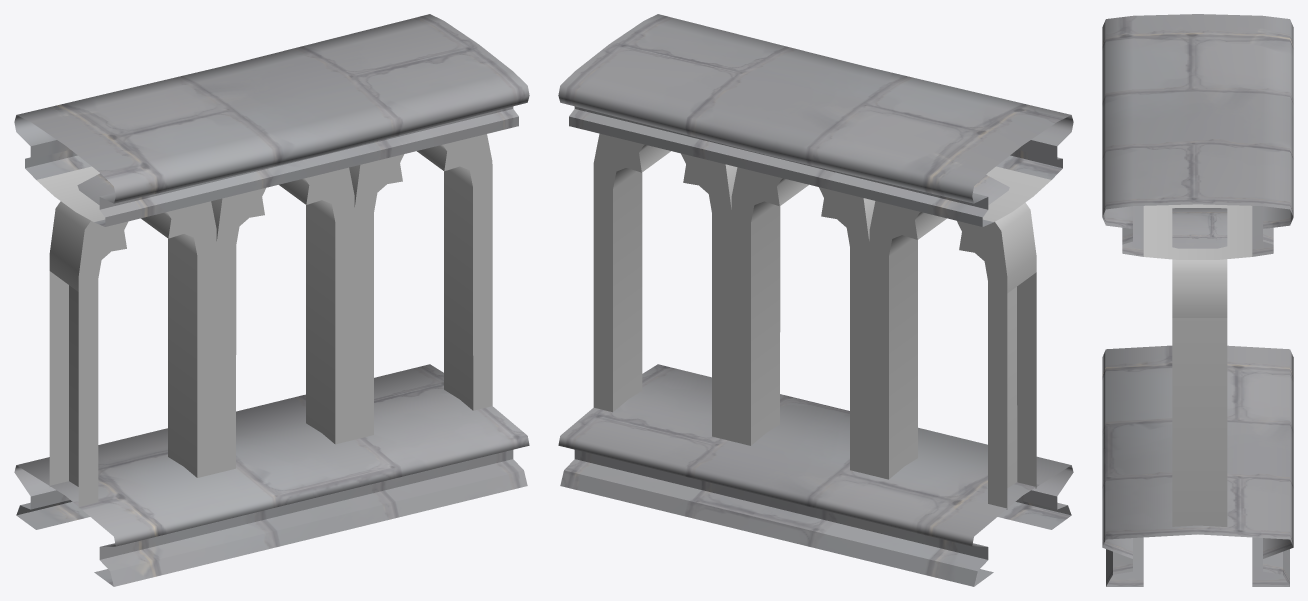
File: SM_Fence1m.fbx
3 views of the same model, side by side, from view 1: azimuth 30°, elevation 25°; view 2: azimuth 150°, elevation 25°; view 3: azimuth 270°, elevation 25° (orthographic). The views are drawn at different scales.
Visible parts, largest first — view 1: SM_Fence1m; view 2: SM_Fence1m; view 3: SM_Fence1m.
Boxes of the visible parts, x1,y1,x2,y2 form: SM_Fence1m: [14, 14, 529, 586]; SM_Fence1m: [558, 14, 1073, 586]; SM_Fence1m: [1102, 14, 1293, 586].
Size of the model in its own units: 1 by 0.9427 by 0.4245.
